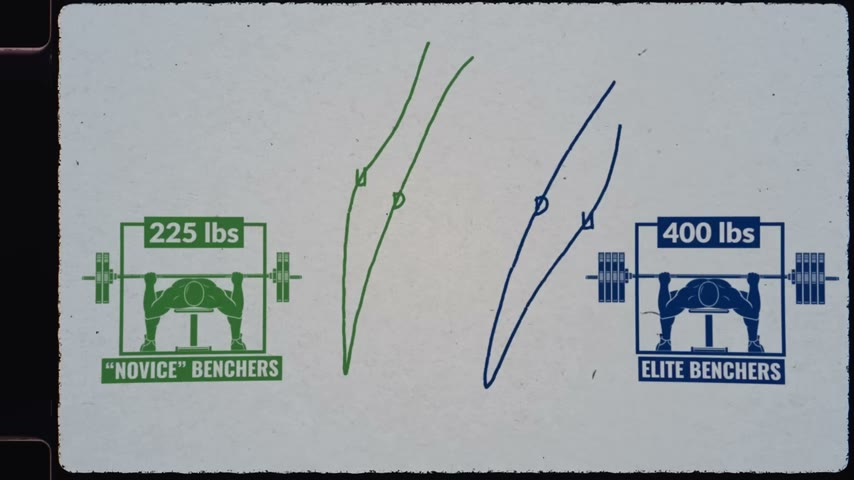barbell_plate_side: (519, 71, 622, 395)
